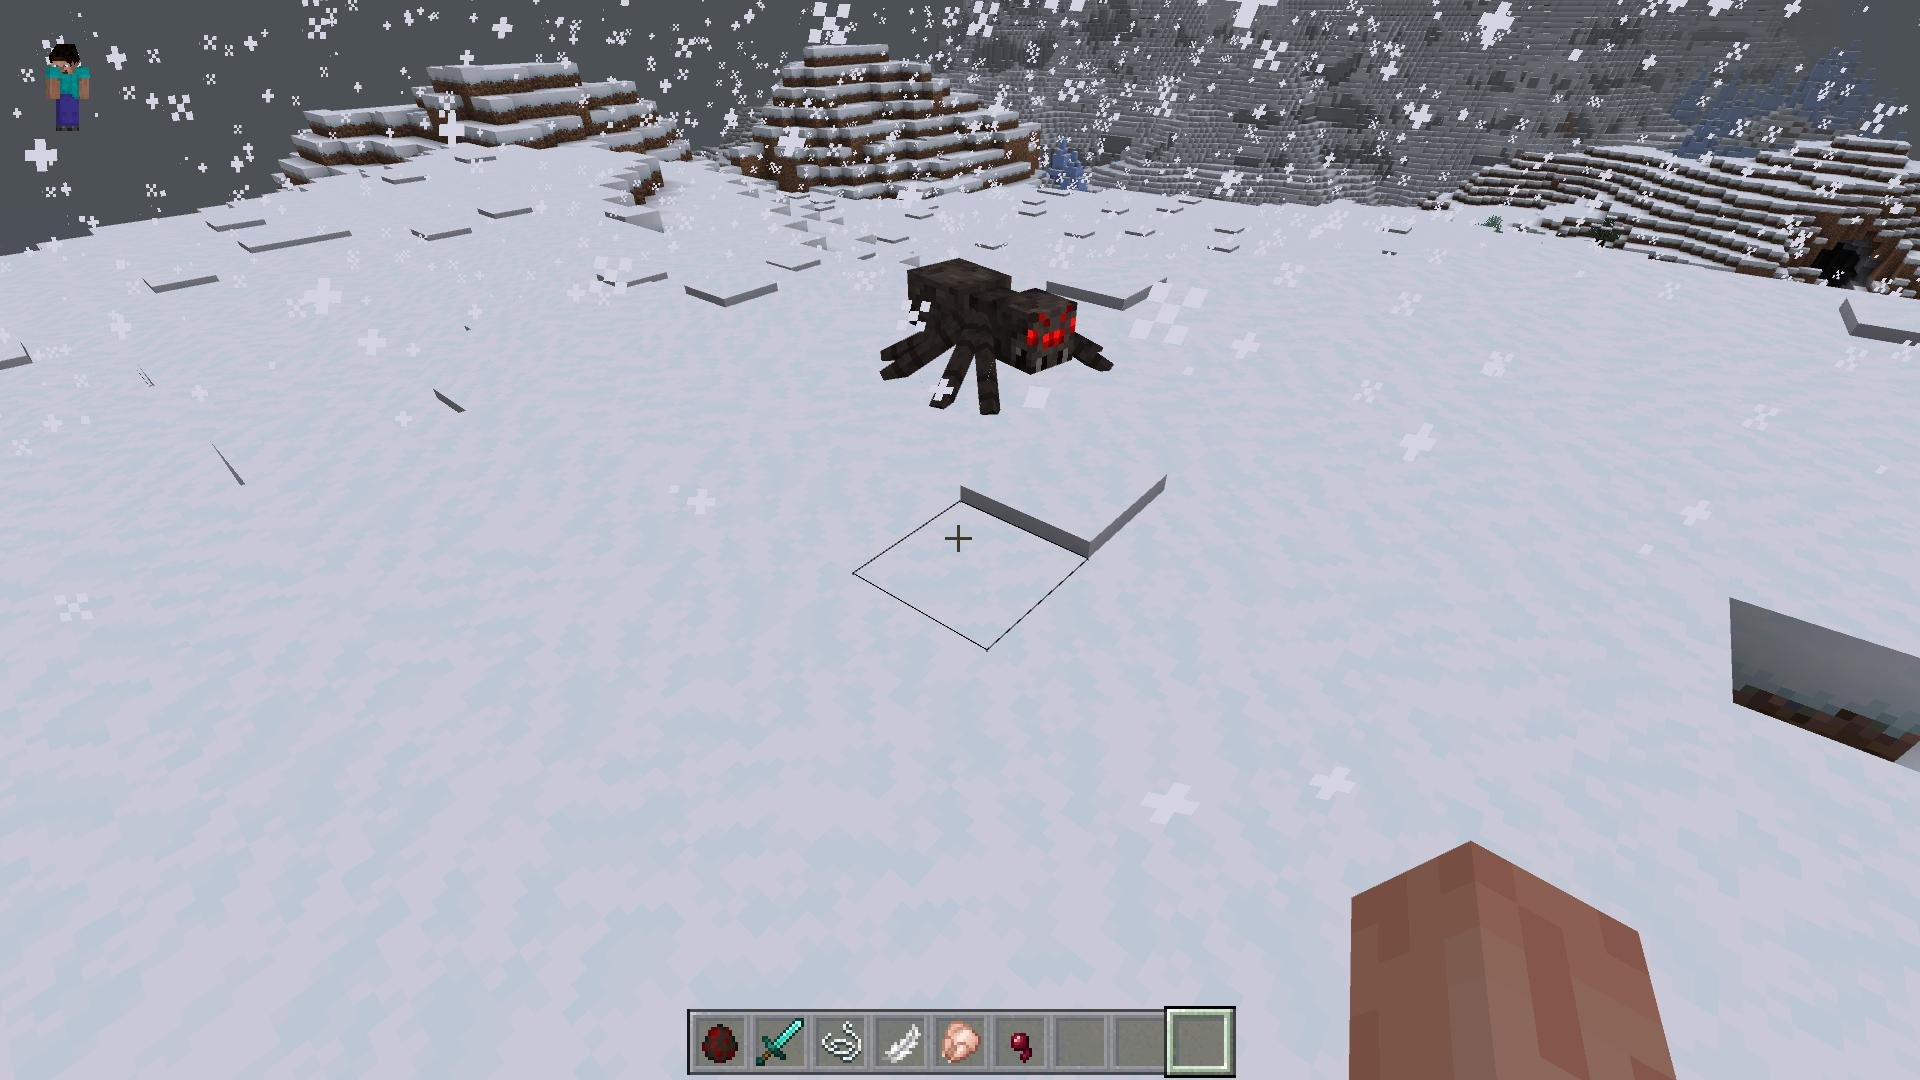spider: (881, 258, 1118, 418)
